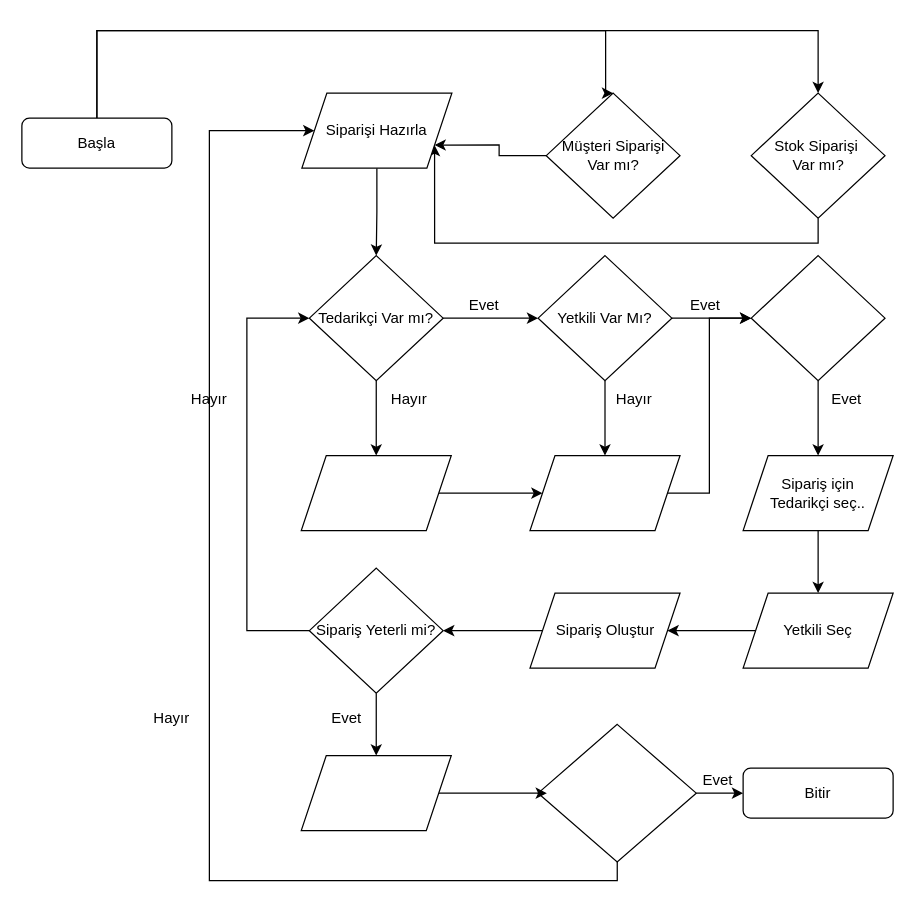
The diagram is 915 pixels wide and 913 high, and some of its shapes have lost their labels. Each missing label, with the box of its shape:
İlaçları Bekle (Status): (300, 754, 451, 831)
Spariş Var Mı?: (750, 254, 885, 381)
Tedarikçi Oluştur: (300, 454, 451, 531)
Yeteri Kadar İlaç Depoya Giriş Yaptı Mı?: (537, 723, 696, 862)
Yetkili Oluştur: (529, 454, 680, 531)
